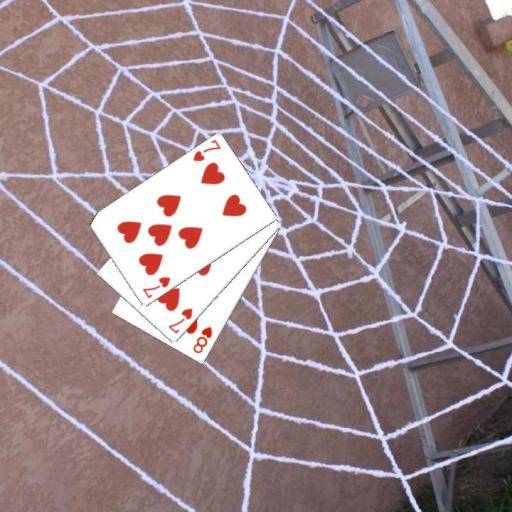7H: (165, 305, 194, 336), (190, 137, 222, 164), (139, 274, 172, 300)
8H: (190, 324, 213, 356)
